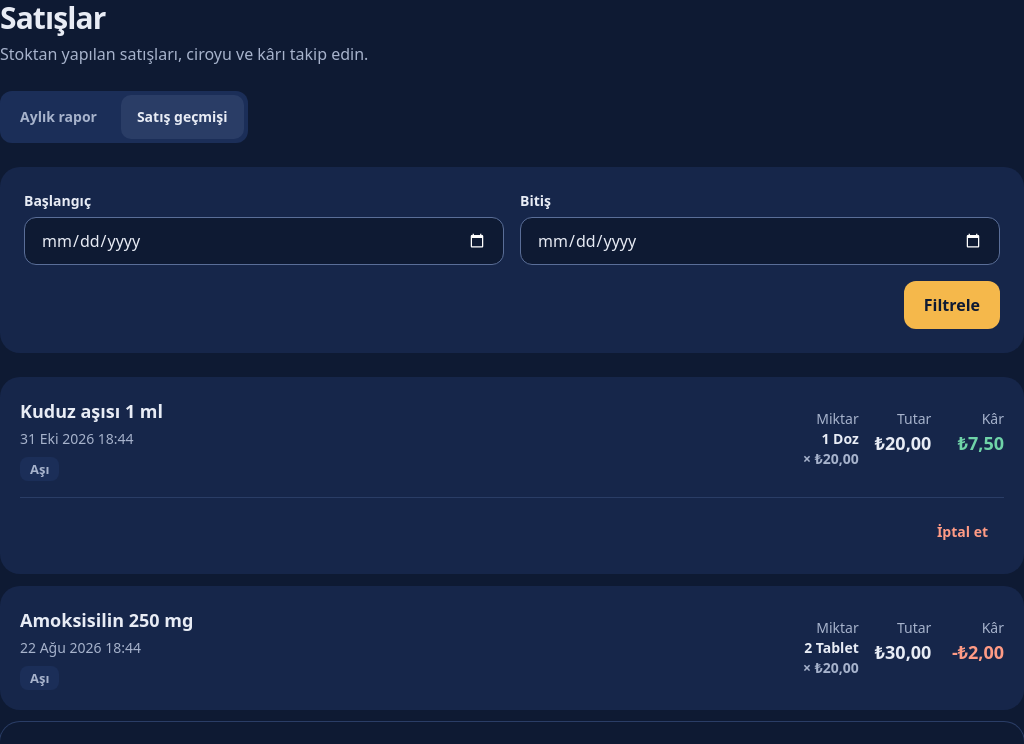
Test: SalesHistoryPage › iptal reddedilirse nedenini gösterir
Click the button named "Satışı iptal et: Kuduz aşısı 1 ml" at (962, 532), box [921,510,1004,554]
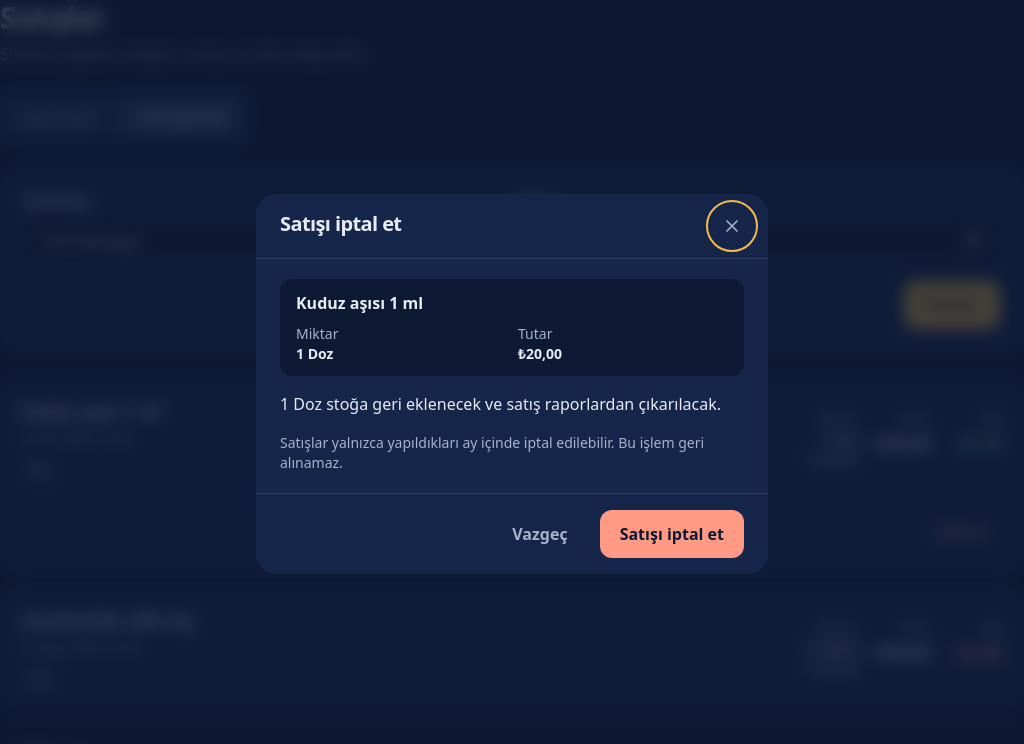
Click the button "Satışı iptal et" at (672, 534), box [600,510,744,558]
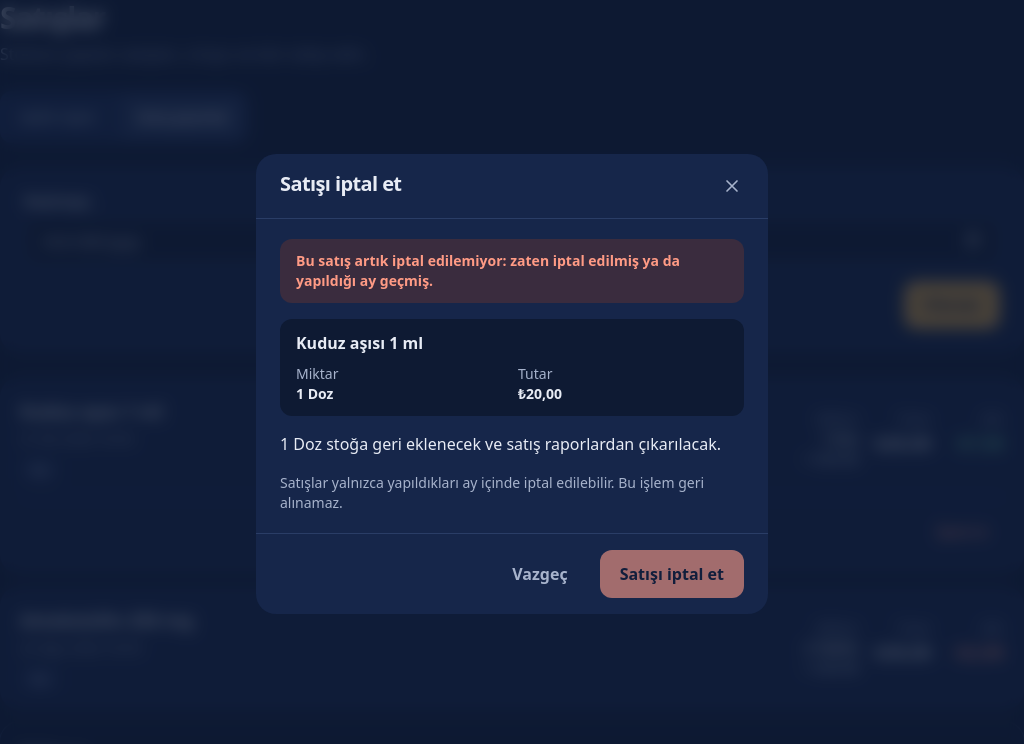
Result: the message shows "Bu satış artık iptal edilemiyor" at [296,251,680,290]
Result: the button "Satışı iptal et" is disabled at [600,550,744,598]
